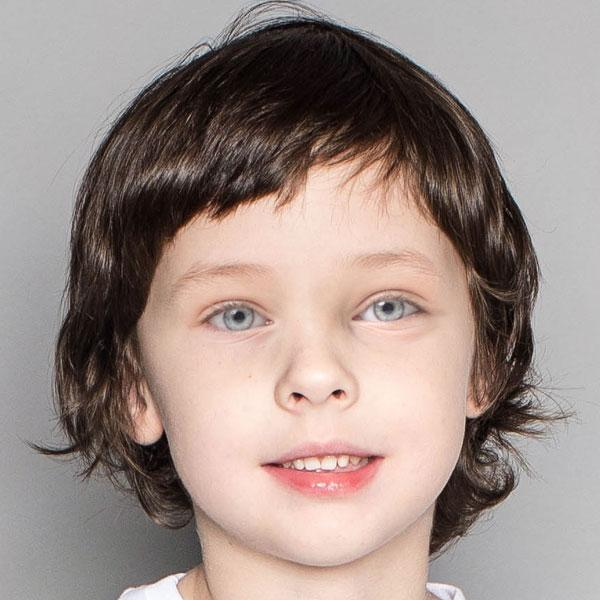Eyes: (186, 286, 279, 346), (344, 282, 435, 336)
